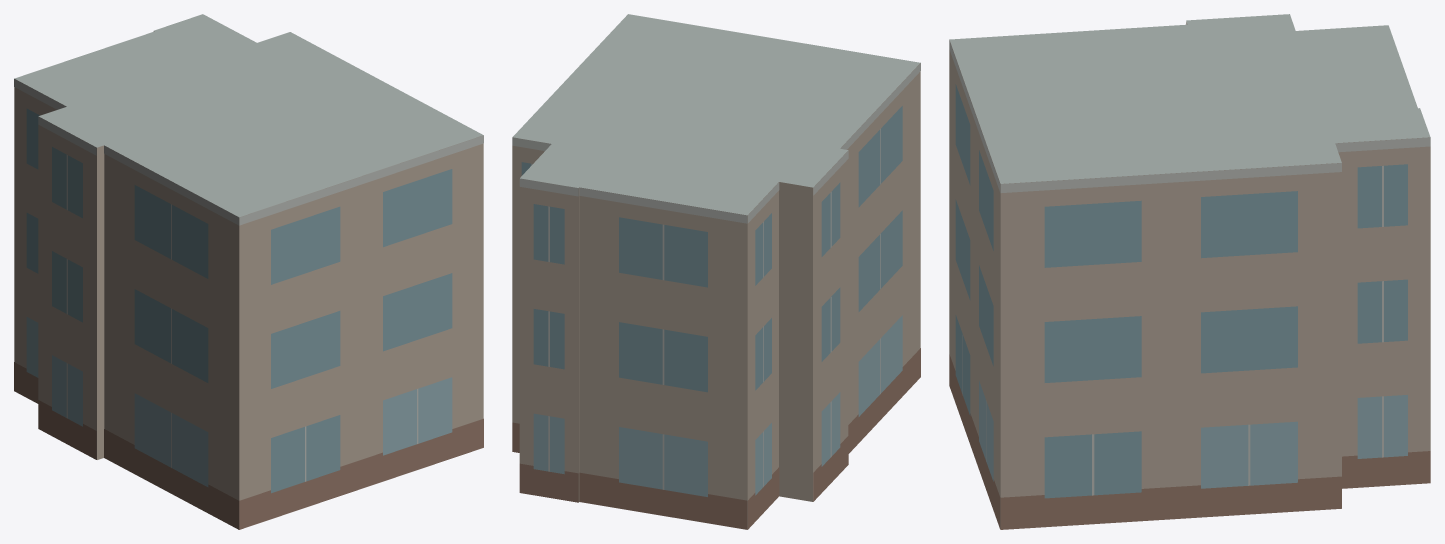
File: survey-upis-32808522.glb
3 views of the same model, side by side, from view 1: azimuth 30°, elevation 25°; view 2: azimuth 150°, elevation 25°; view 3: azimuth 270°, elevation 25° (orthographic). The views are drawn at different scales.
Visible parts, largest first — view 1: survey-upis-32808522.tmp; view 2: survey-upis-32808522.tmp; view 3: survey-upis-32808522.tmp.
Boxes of the visible parts, x1,y1,x2,y2 form: survey-upis-32808522.tmp: [14, 14, 483, 529]; survey-upis-32808522.tmp: [512, 14, 920, 529]; survey-upis-32808522.tmp: [949, 14, 1430, 529].
Bounding box in the file's own units: 9.65 × 9.15 × 11.55.
